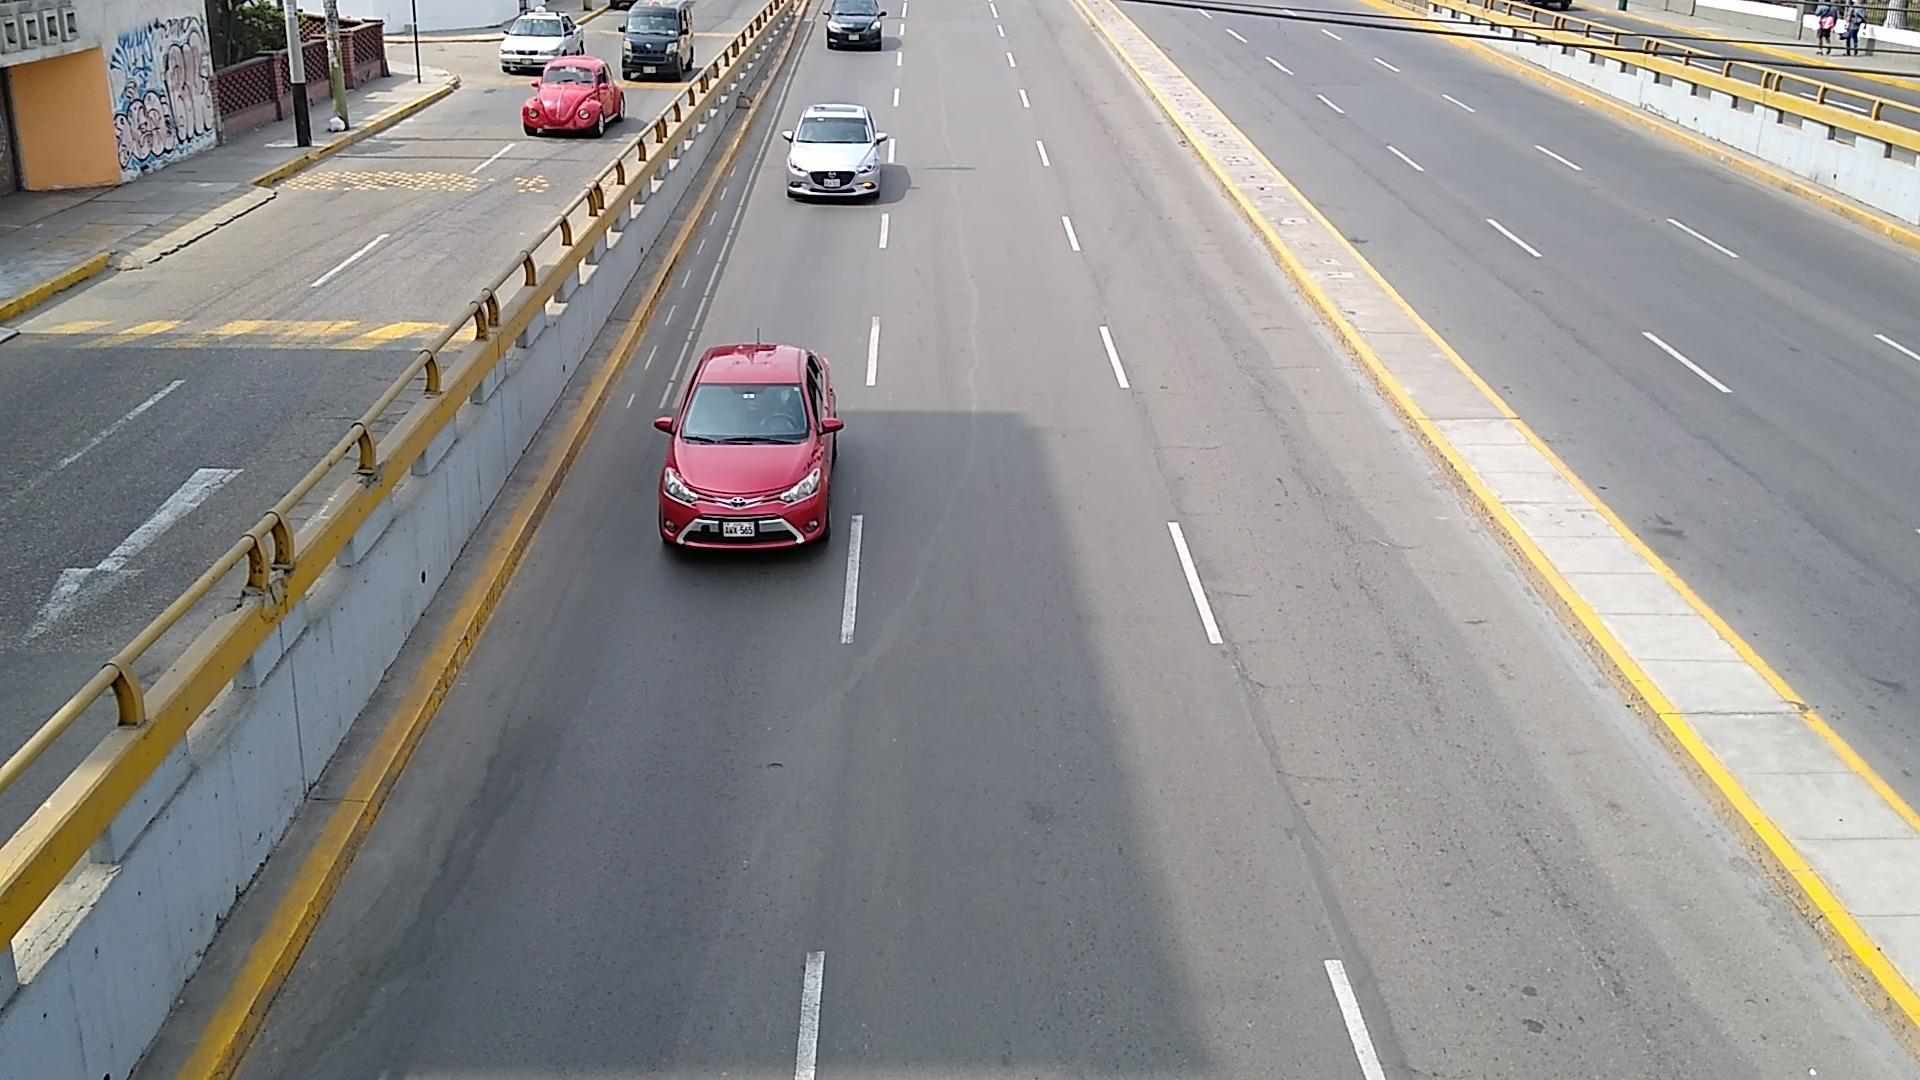car: (653, 345, 844, 551), (783, 105, 889, 196), (521, 57, 626, 135), (498, 8, 585, 71), (825, 0, 885, 49)
minivan: (622, 0, 694, 76)
